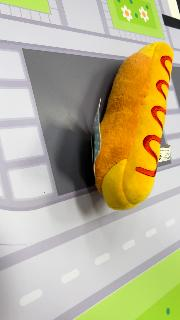hotdog: (94, 41, 174, 211)
